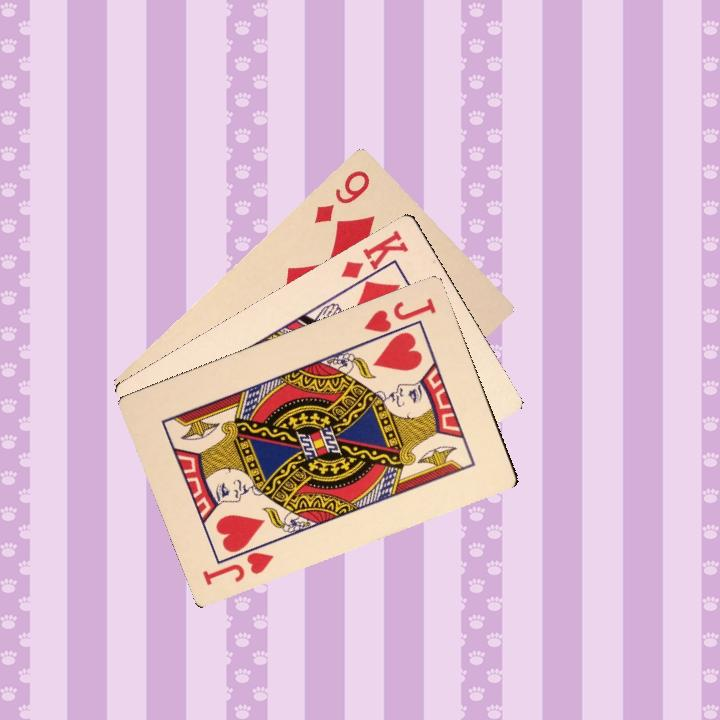9d: (310, 166, 373, 226)
Jh: (360, 293, 439, 346), (198, 537, 276, 588)
Kd: (338, 226, 411, 292)
